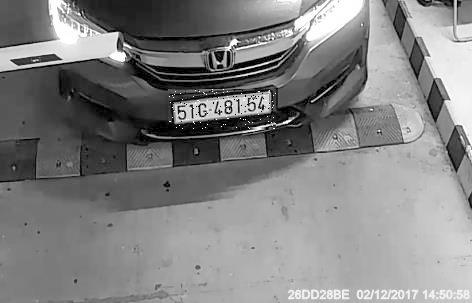License-plate: (169, 91, 277, 131)
